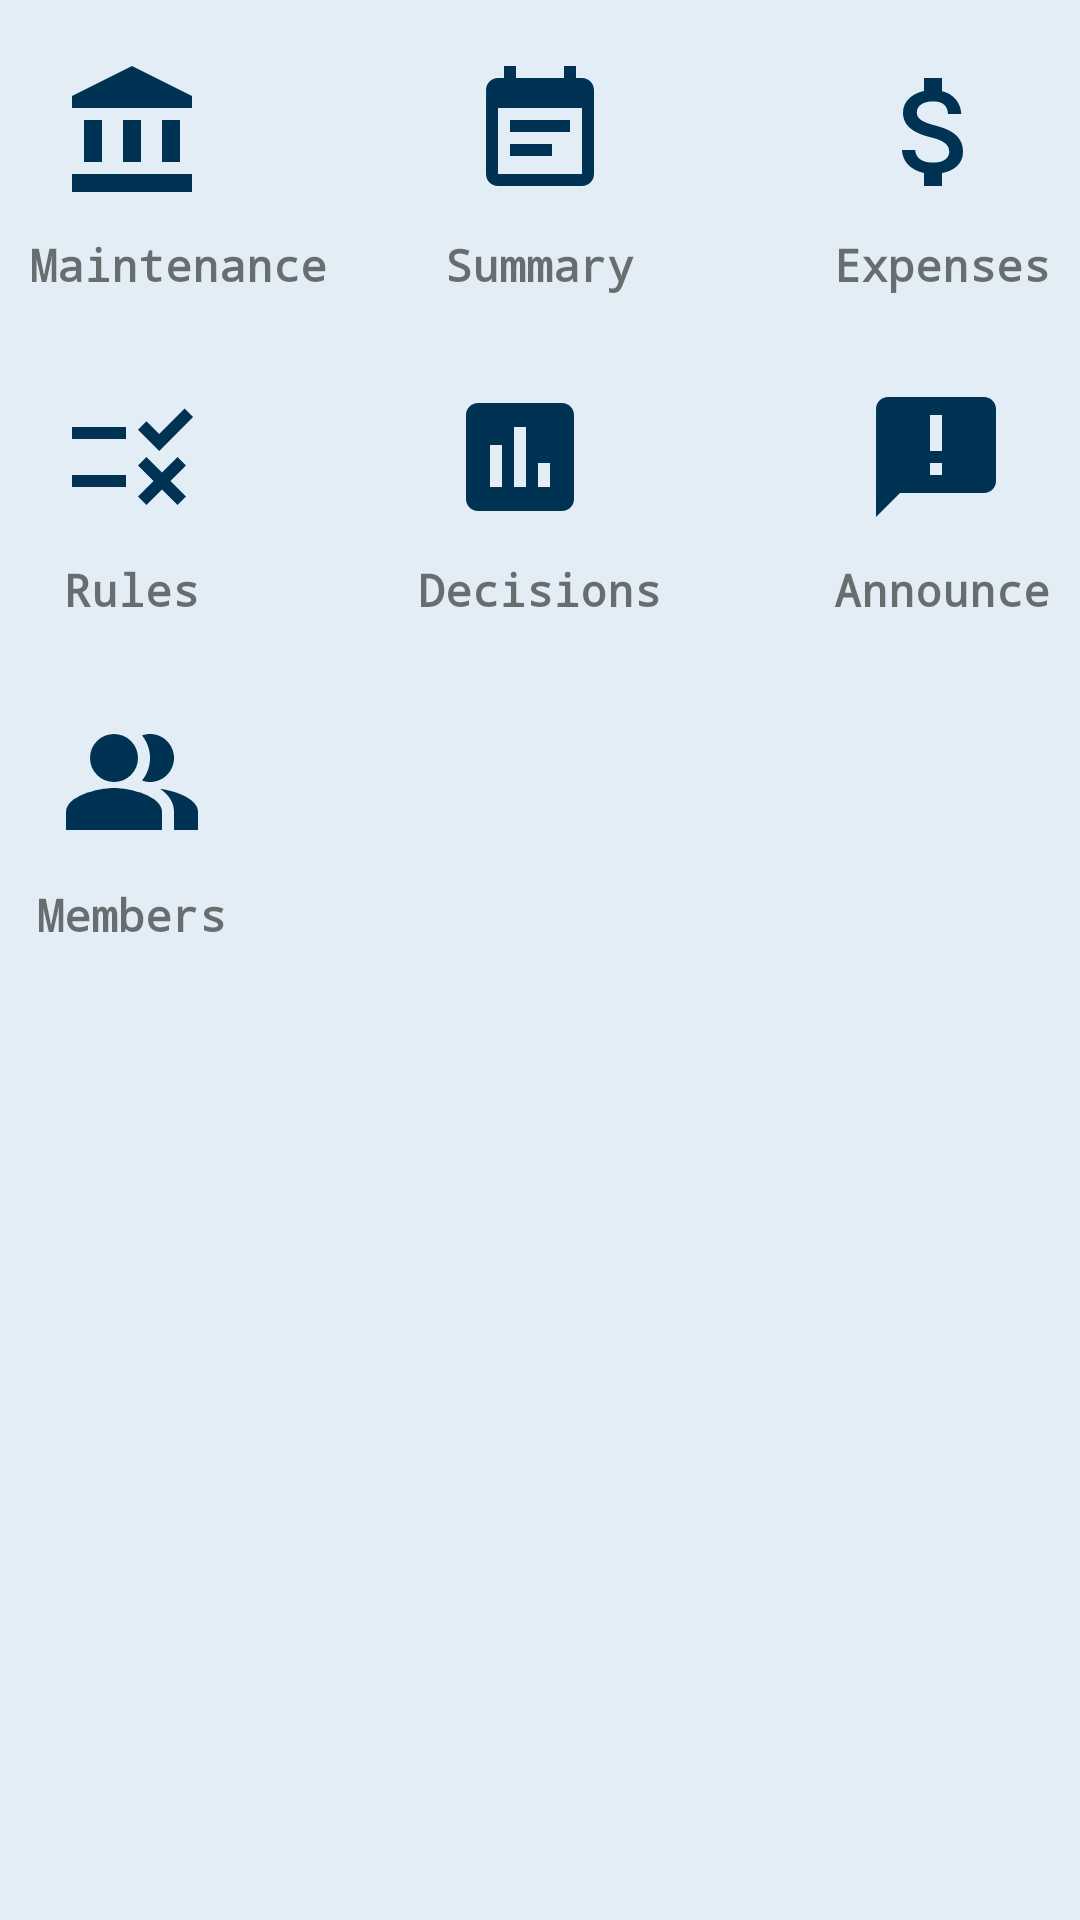

Screen size 1080px x 1920px. Icon name, then its center in pixels as point (x, y):
account balance: point (132, 129)
attach money: point (932, 132)
event note: point (540, 126)
people: point (132, 782)
poll: point (520, 457)
